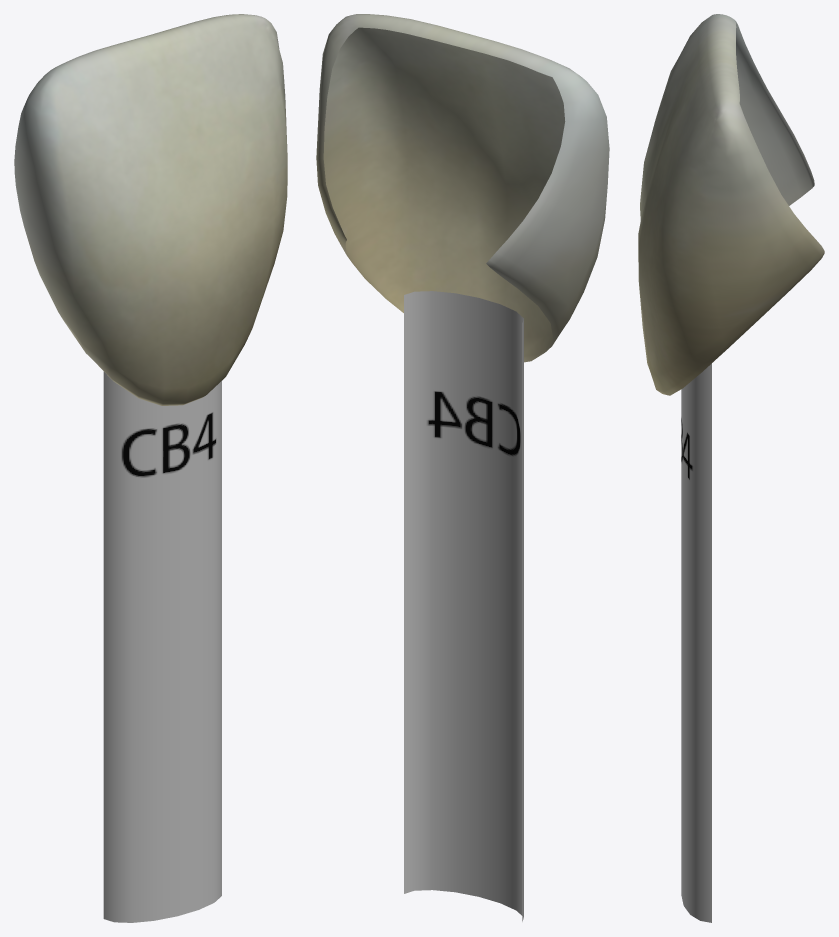
3 renders of one model, left to right at view 1: azimuth 30°, elevation 25°; view 2: azimuth 150°, elevation 25°; view 3: azimuth 270°, elevation 25°, orthographic. The views are drawn at different scales.
Parts seen in each view (by area): view 1: Tab; view 2: Tab; view 3: Tab.
Part boxes in pixels (left/top/right/bottom): Tab: left=14, top=14, right=287, bottom=922; Tab: left=316, top=14, right=609, bottom=921; Tab: left=638, top=14, right=824, bottom=922.
Bounding box in the file's own units: 0.00859 × 0.0273 × 0.00547.
1 material, 1 textured.
